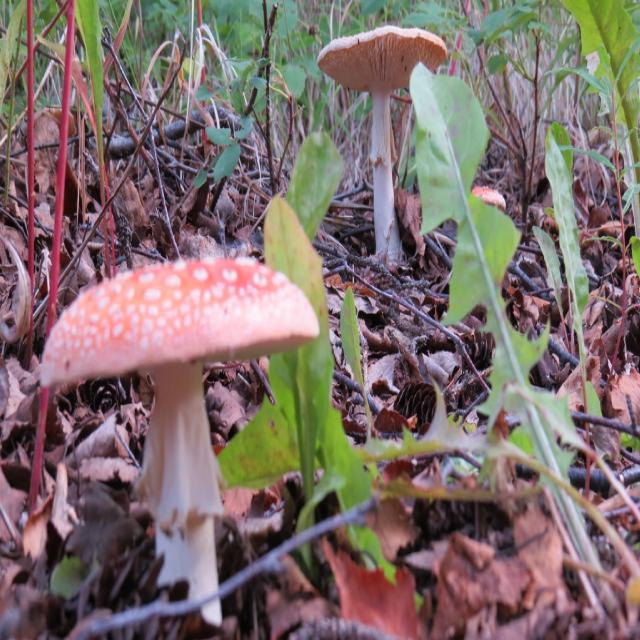Mushroom: (22, 242, 330, 558), (318, 25, 448, 268)
